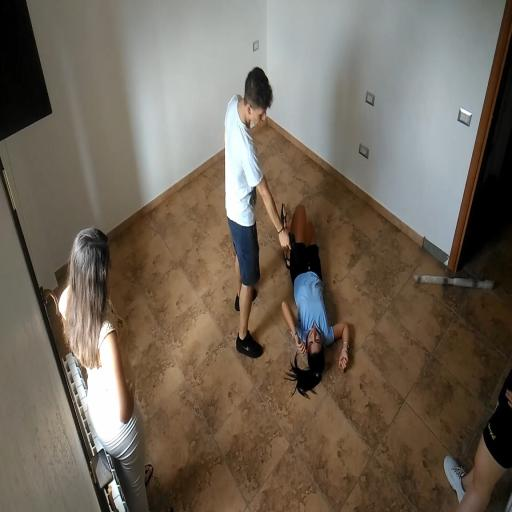violencia: (212, 46, 368, 408)
